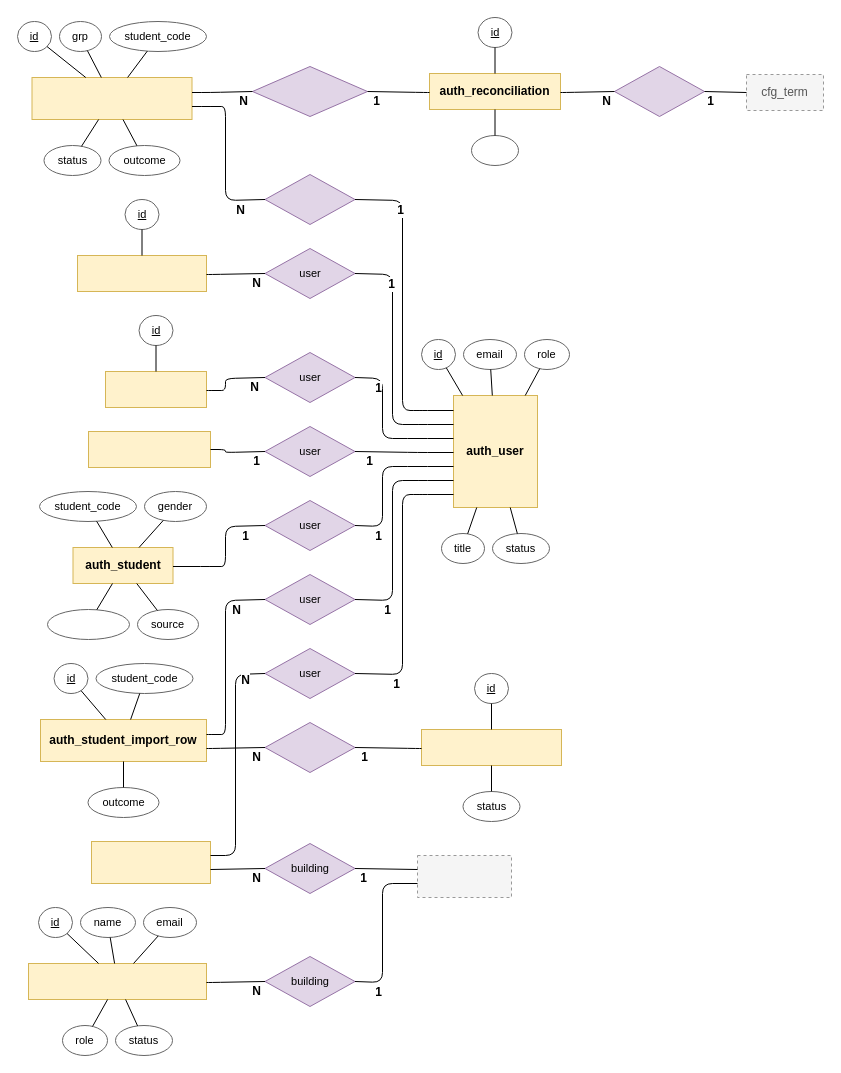
This 841x1073 diagram has some shape labels left out. The shapes that lost their labels are listed below. From the top down, each one's centre as x and y in pixels, then its label:
At [111,98]: "auth_reconciliation_item".
At [310,91]: "reconciliation".
At [659,91]: "term".
At [494,150]: "kind".
At [309,199]: "student".
At [141,273]: "auth_action_token".
At [155,389]: "auth_session".
At [149,449]: "auth_staff_profile".
At [88,624]: "verification".
At [309,747]: "import".
At [491,747]: "auth_student_import".
At [150,862]: "auth_user_block".
At [464,876]: "inv_building".
At [117,981]: "auth_staff_account_request".
